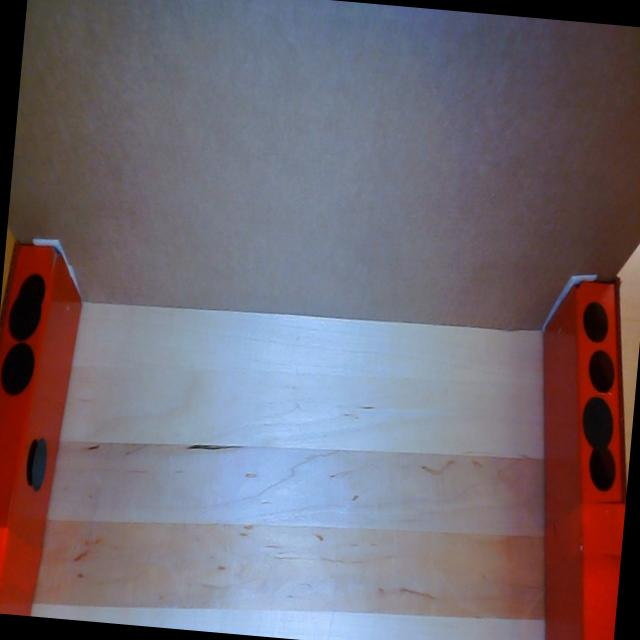Hole: (586, 446, 619, 491), (580, 298, 612, 343), (586, 347, 616, 393), (17, 269, 48, 308), (24, 439, 40, 486)
Sticker: (6, 284, 44, 344), (0, 339, 36, 400), (578, 394, 616, 448), (30, 436, 49, 494)
